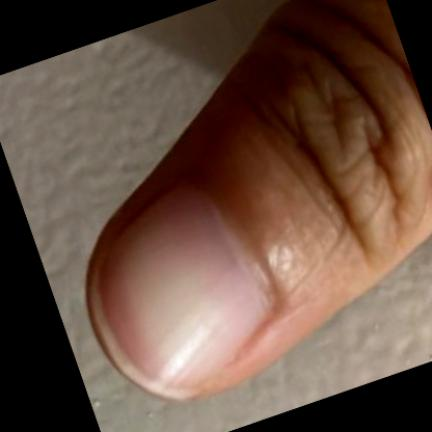Nail: (101, 186, 271, 384)
